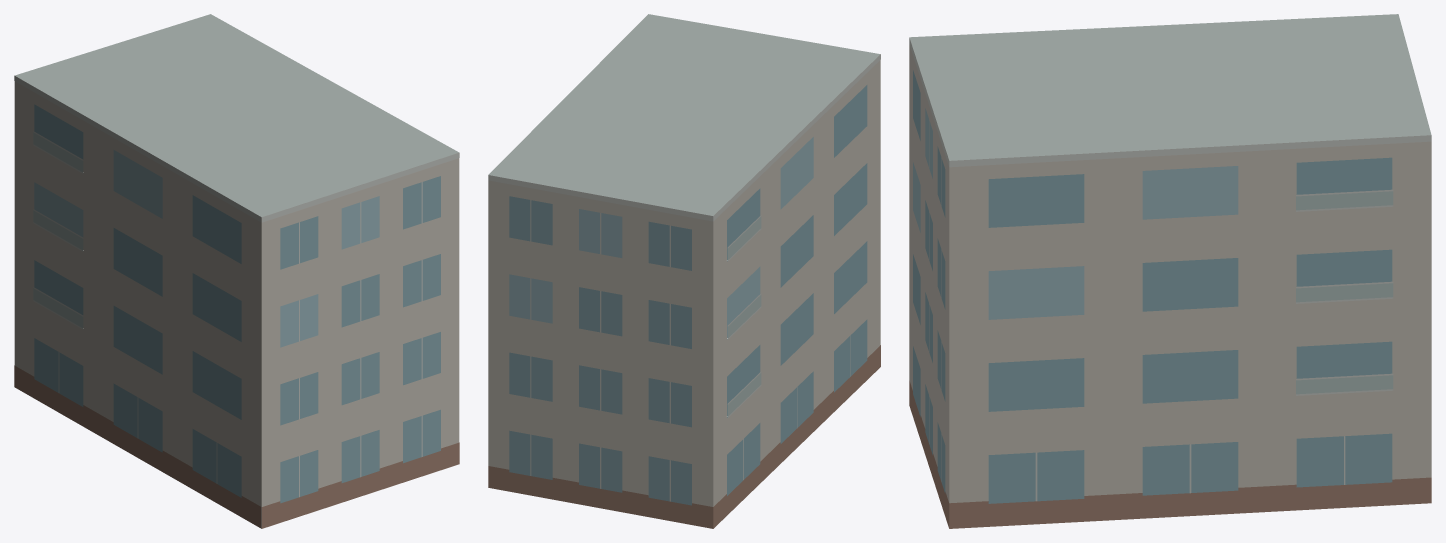
Rendered from survey-upis-32912745.glb.
3 views of the same model, side by side, from view 1: azimuth 30°, elevation 25°; view 2: azimuth 150°, elevation 25°; view 3: azimuth 270°, elevation 25° (orthographic). The views are drawn at different scales.
Visible parts, largest first — view 1: survey-upis-32912745.tmp; view 2: survey-upis-32912745.tmp; view 3: survey-upis-32912745.tmp.
Part boxes in pixels (x1,y1,x2,y2): survey-upis-32912745.tmp: (14,14,459,528); survey-upis-32912745.tmp: (488,14,880,528); survey-upis-32912745.tmp: (909,14,1431,528).
Size of the model in its own units: 11.99 by 14 by 18.02.
